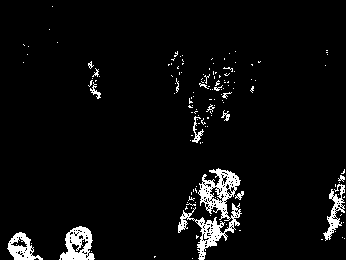person: (188, 77, 216, 143), (219, 68, 234, 121)
